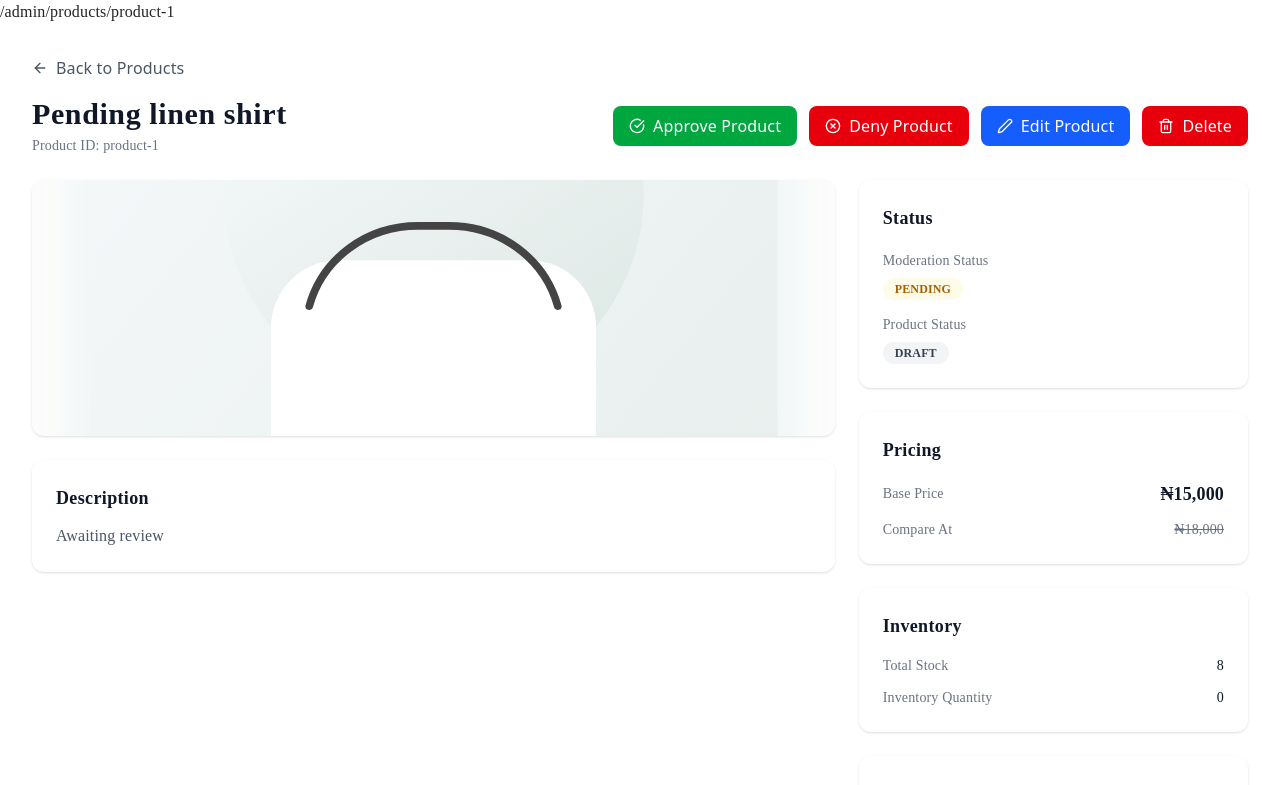
Scenario: admin product view/edit API boundaries › denies from the detail page, then shows the server-returned rejected status
The width and height of the screenshot is (1280, 785).
Click the button "Deny Product".
click(889, 126)  # box [809, 106, 969, 146]
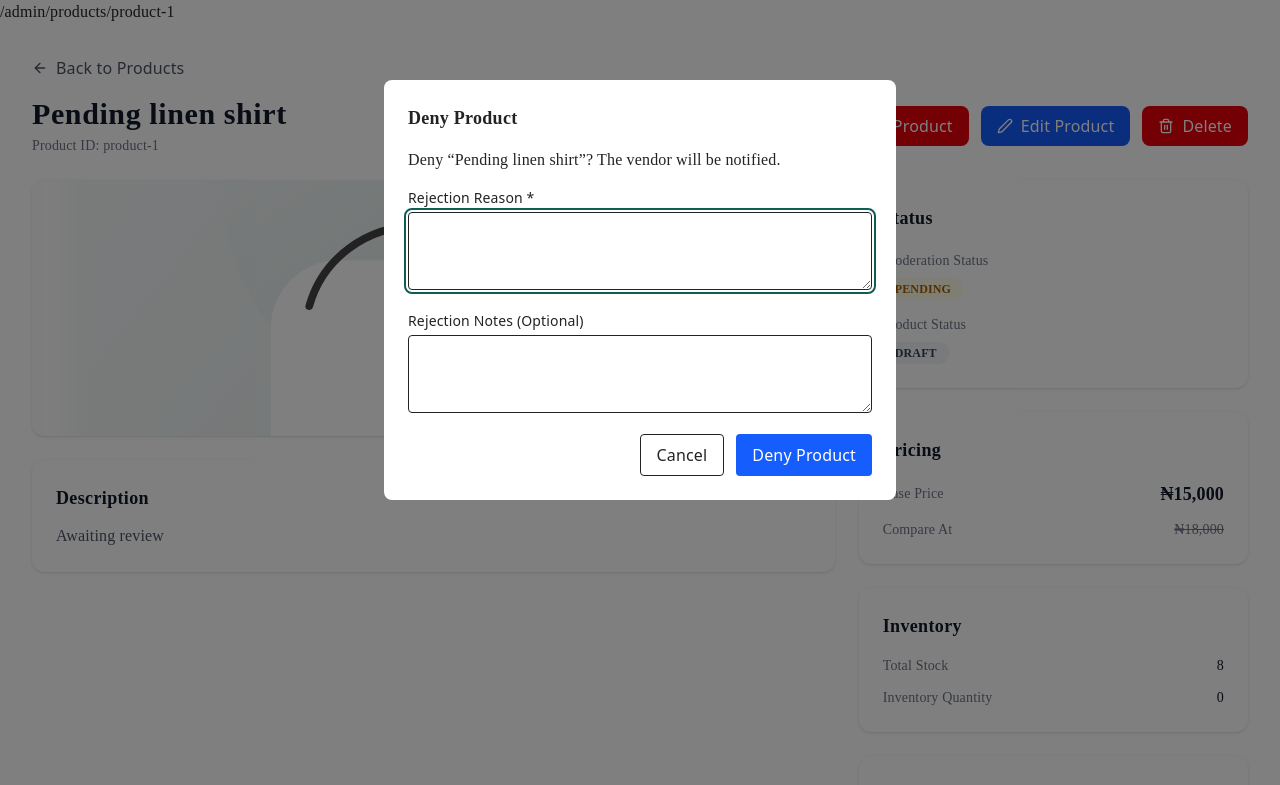
Type "  Product images need correction  " into the text box labelled "Rejection Reason *".
click(640, 251); type("  Product images need correction  ")  # box [408, 212, 872, 290]
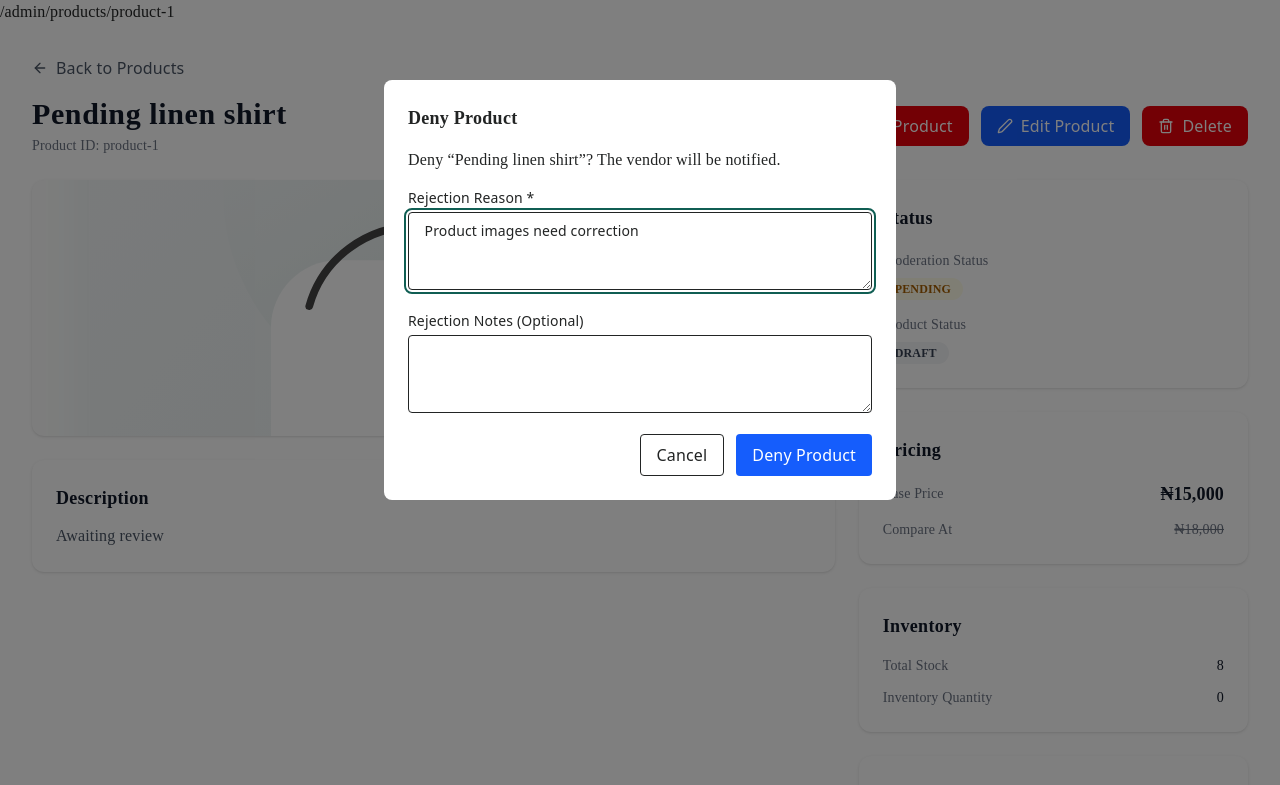
Click the button "Deny Product".
click(804, 455)  # box [736, 434, 872, 476]
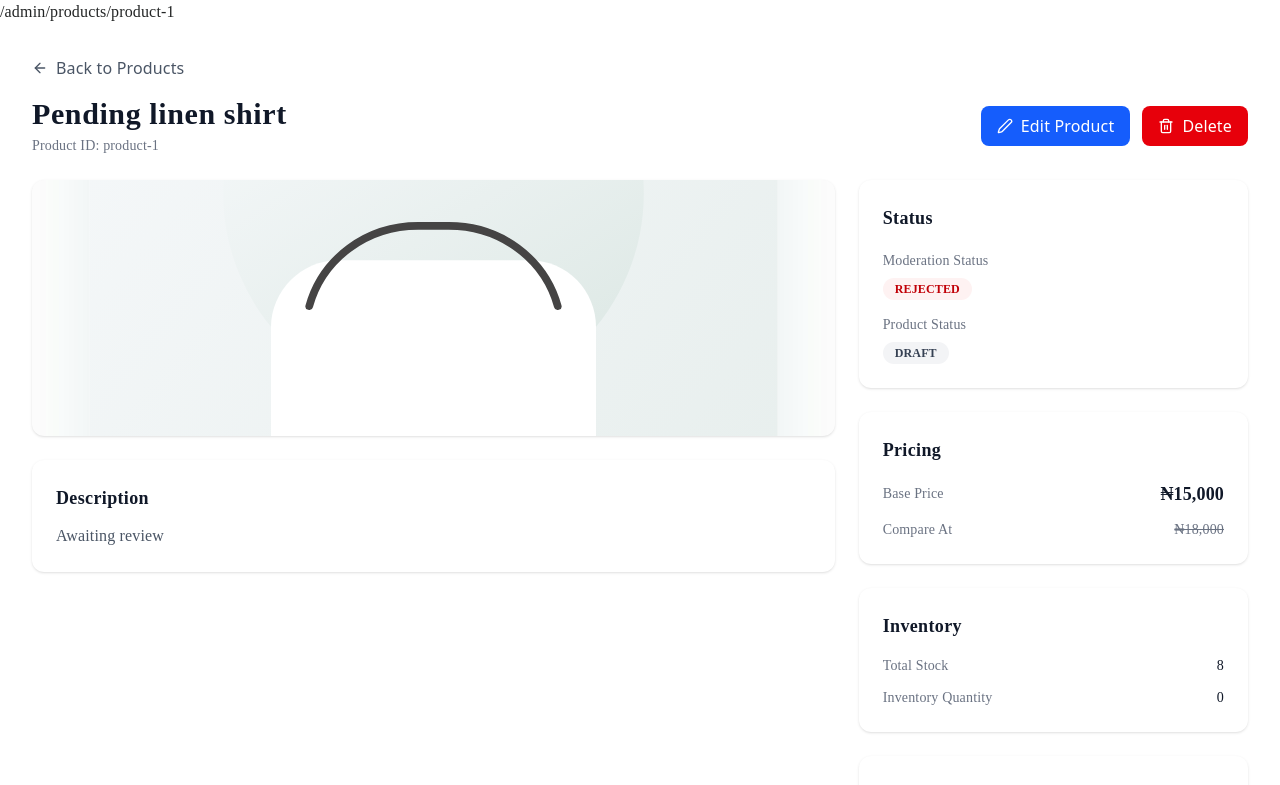
Check: the button "Approve Product" is not shown
Check: the text "REJECTED" is shown, box [883, 278, 972, 300]
